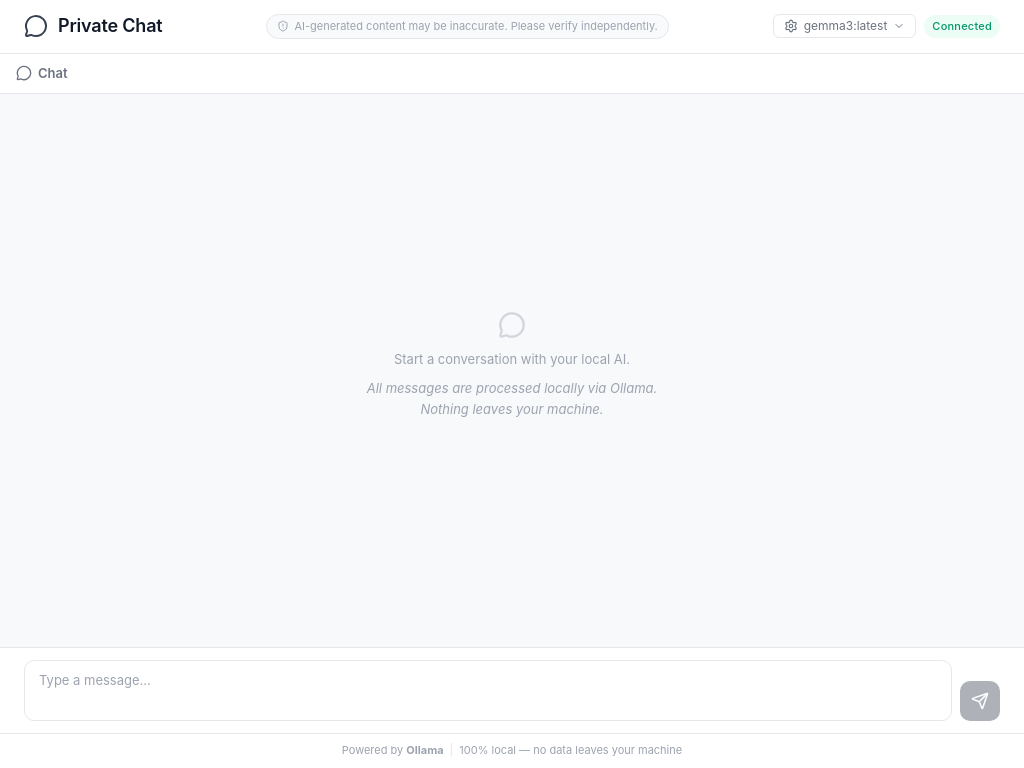
Test: PrivateChatApp › send button is enabled when input has text
Type "Hello" into the text box with placeholder "Type a message..." at {"x": 488, "y": 691}, box [24, 660, 952, 721]
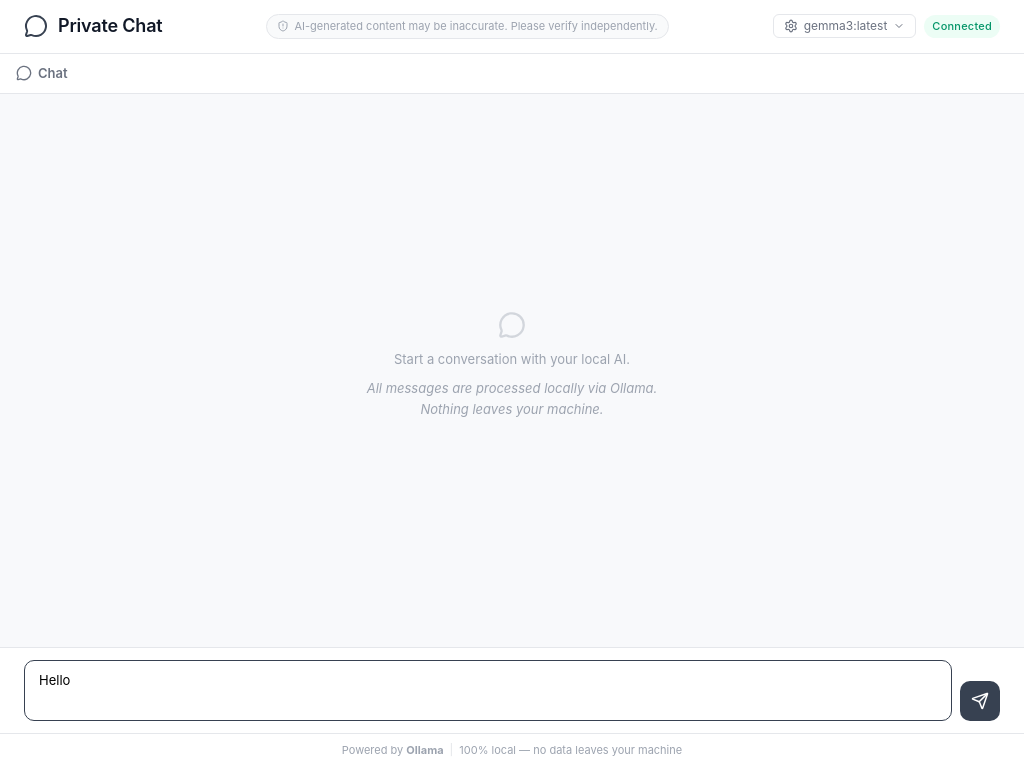
Expected: the button titled "Send message" is enabled, [960, 681, 1000, 721]
